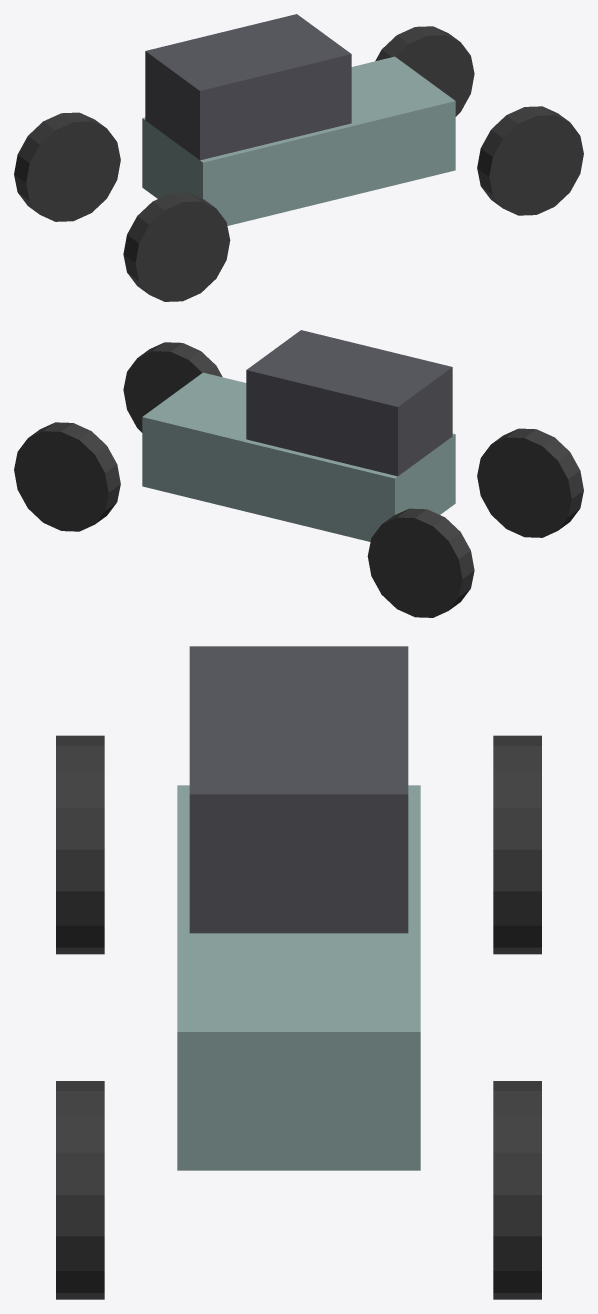
The model's file is vehicle_car_suv.glb.
3 views of the same model, one above another, from view 1: azimuth 30°, elevation 25°; view 2: azimuth 150°, elevation 25°; view 3: azimuth 270°, elevation 25° (orthographic). The views are drawn at different scales.
Parts seen in each view (by area): view 1: vehicle_car_suv; view 2: vehicle_car_suv; view 3: vehicle_car_suv.
Boxes of the visible parts, x1,y1,x2,y2 form: vehicle_car_suv: (14, 14, 583, 301); vehicle_car_suv: (14, 330, 583, 617); vehicle_car_suv: (56, 646, 541, 1299).
Bounding box in the file's own units: 4.26 × 1.58 × 2.
